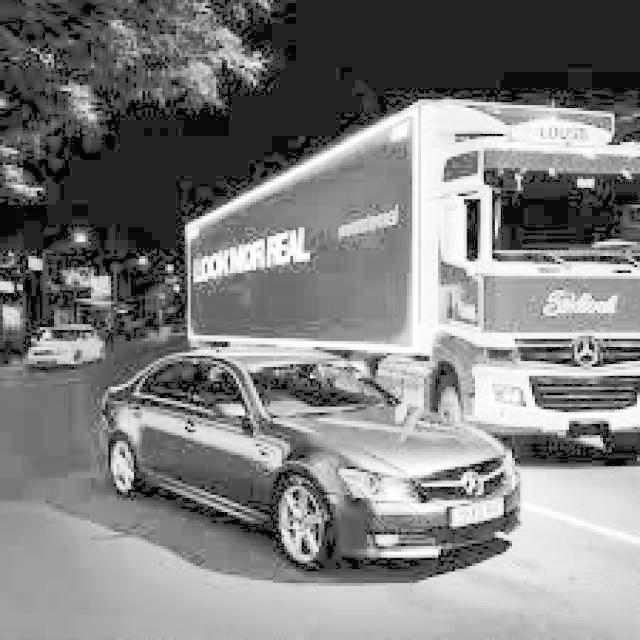Truck: (182, 94, 637, 461)
